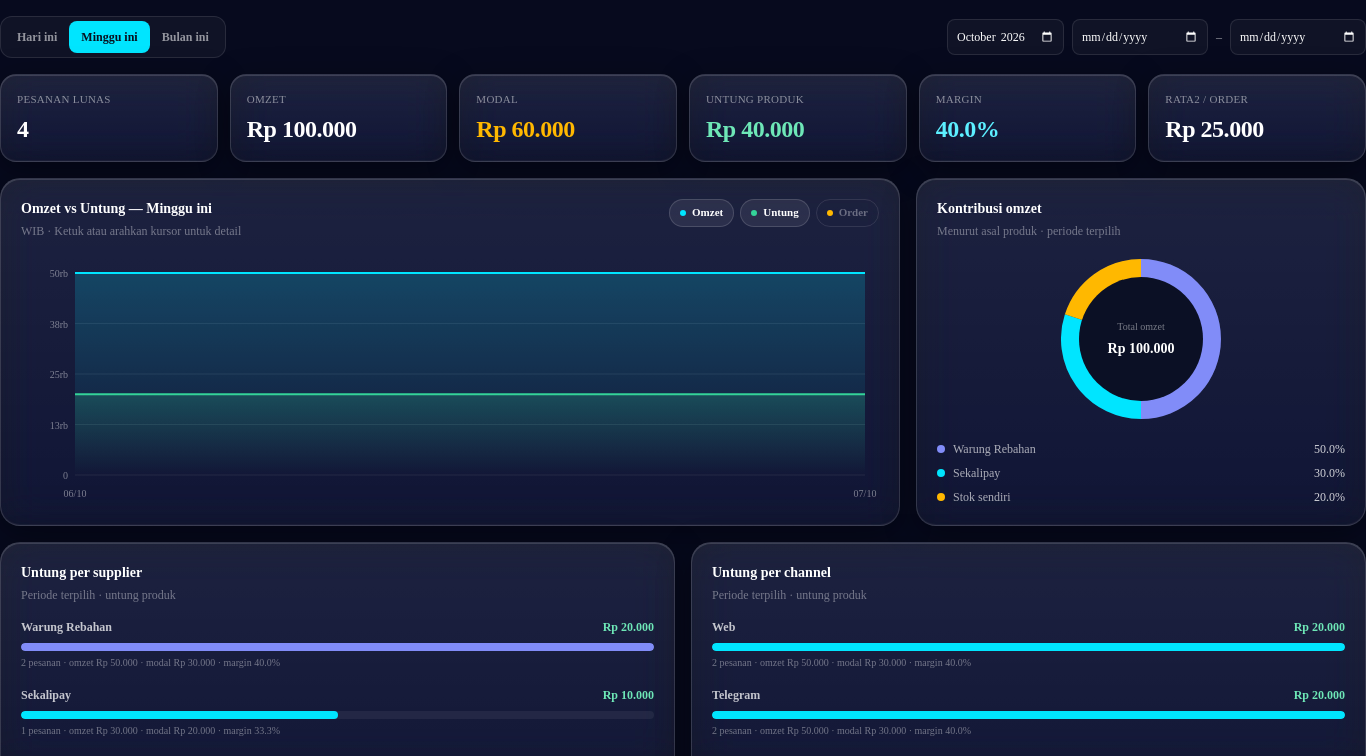
month and complete date edits apply automatically while invalid ranges preserve the report
Replace the text in the field named "Bulan historis" with "2024-02" at (1006, 37), box [947, 19, 1064, 55]
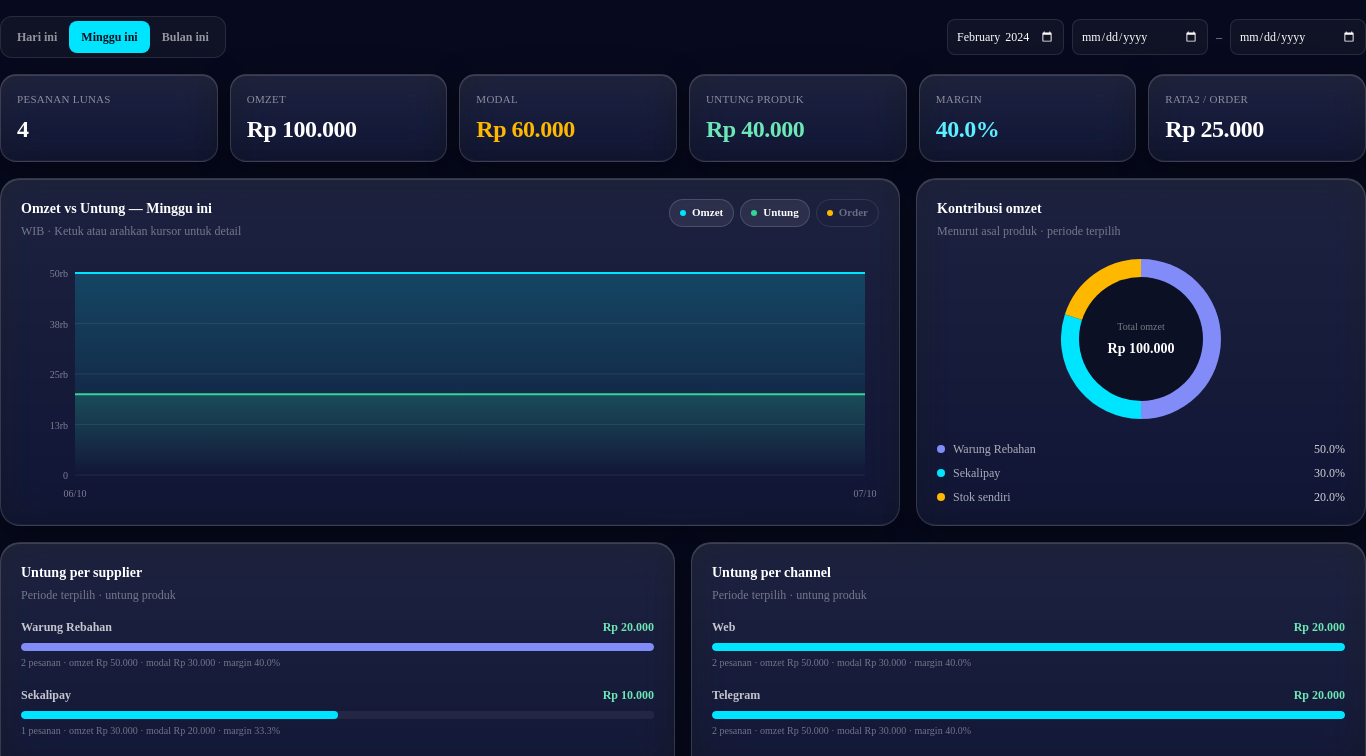
Type "2024-03-01" into the 1st date field named "Tanggal awal".
click(1140, 37); type("2024-03-01")  # box [1072, 19, 1208, 55]
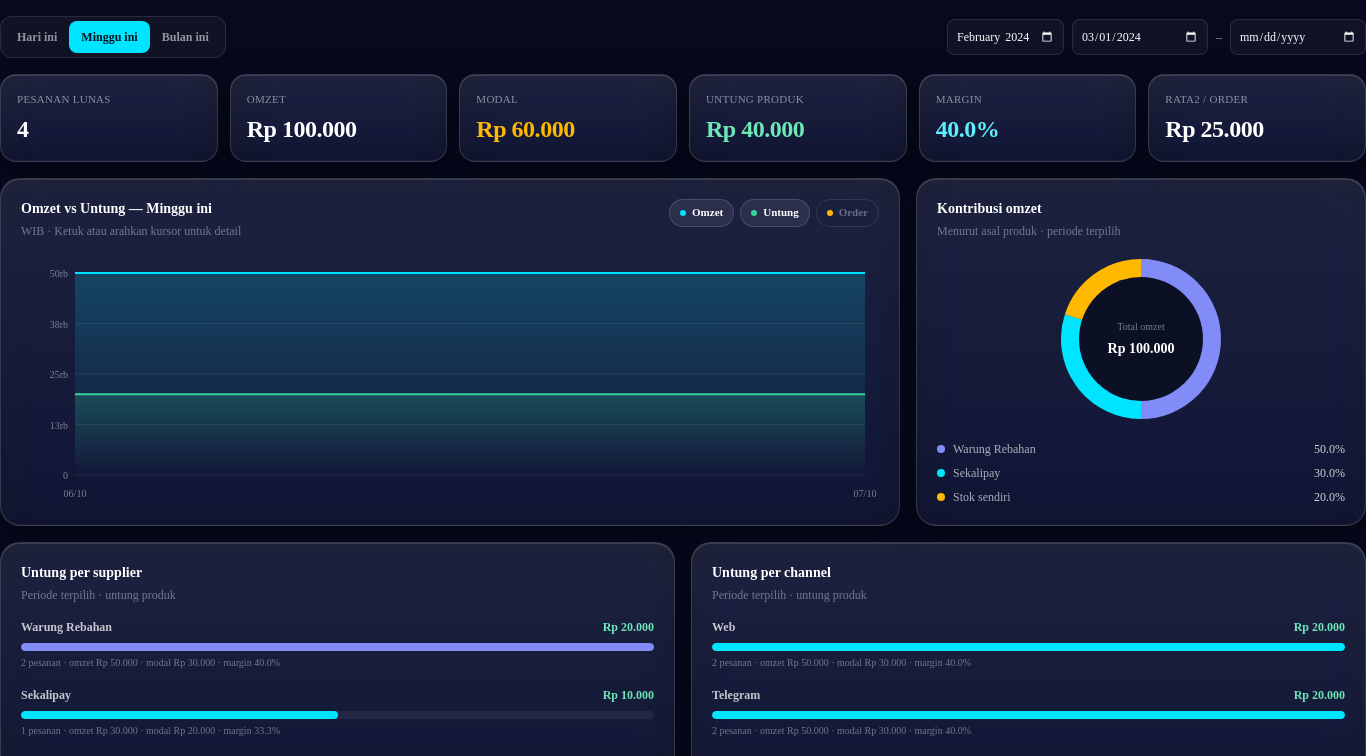
Type "2024-02-29" into the 2nd date field named "Tanggal akhir".
click(1298, 37); type("2024-02-29")  # box [1230, 19, 1365, 55]
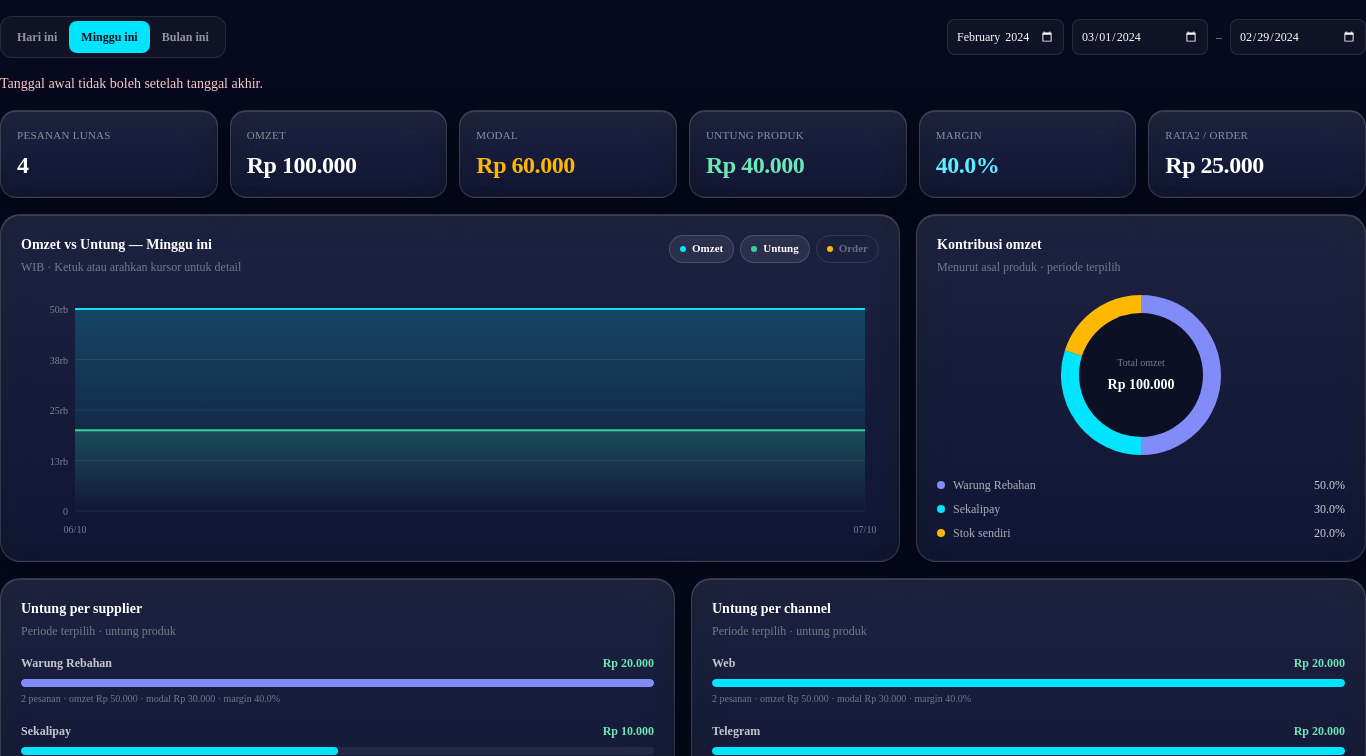
Expected: the message shows "Tanggal awal", [0, 76, 263, 91]
Type "2024-02-20" into the 1st date field named "Tanggal awal".
click(1140, 37); type("2024-02-20")  # box [1072, 19, 1208, 55]
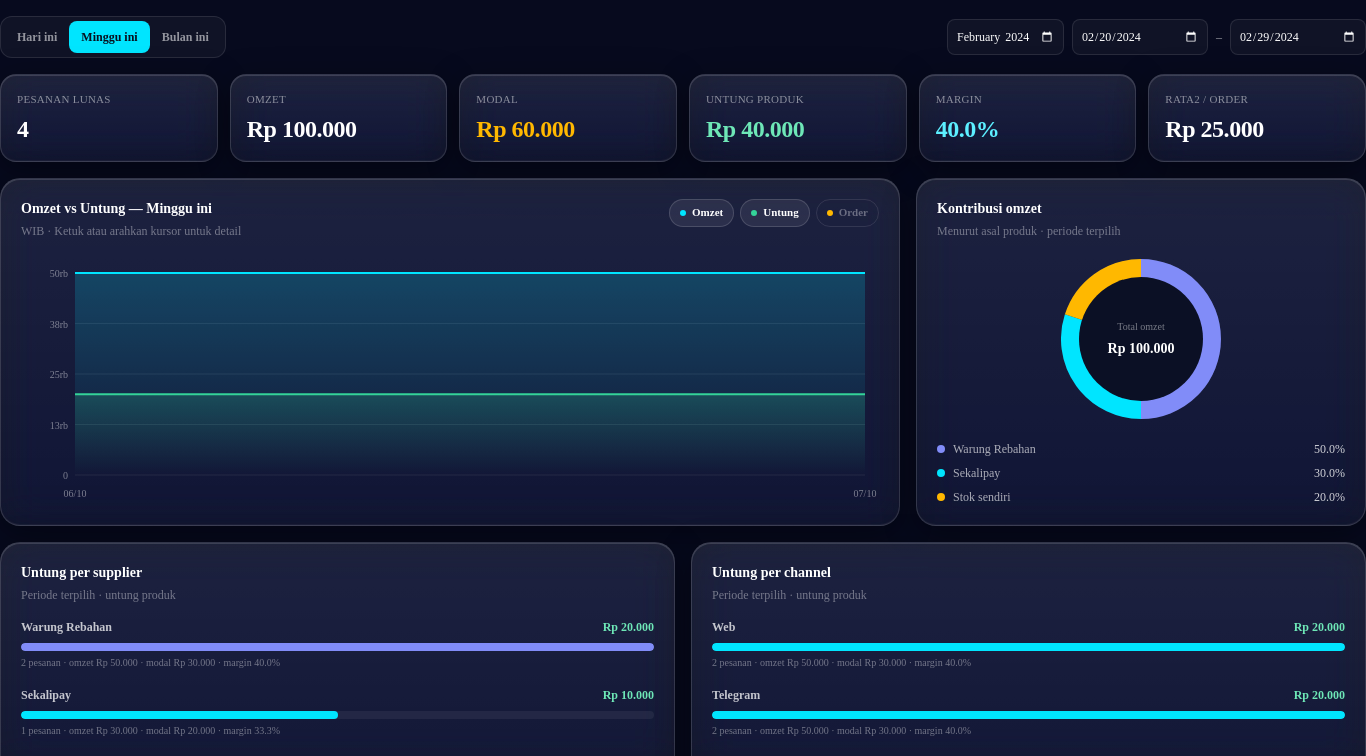
Expected: the text "Maksimal 366 hari" is not shown
Expected: the message "Tanggal awal tidak boleh setelah tanggal akhir." is gone
Replace the text in the field named "Bulan historis" with "2099-01" at (1006, 37), box [947, 19, 1064, 55]
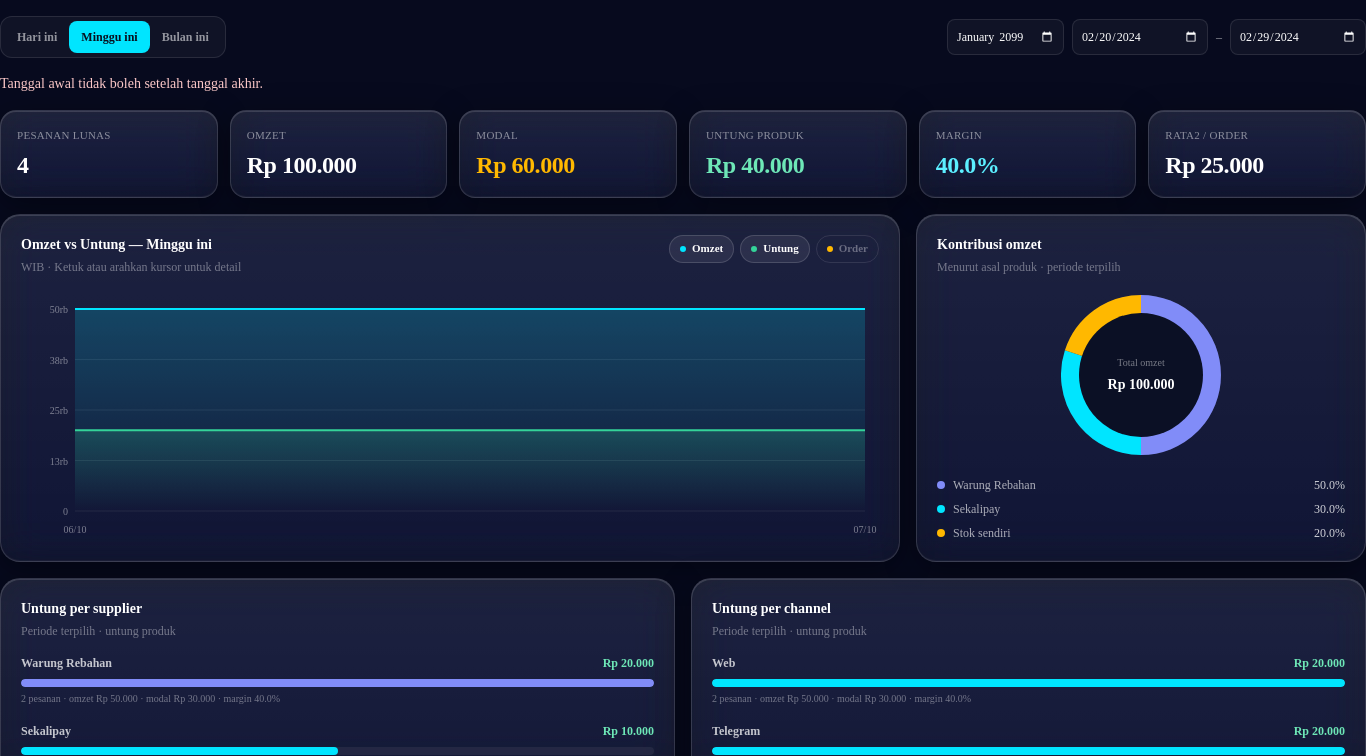
Expected: the message "Tanggal awal tidak boleh setelah tanggal akhir." is shown, [0, 76, 263, 91]
Type "2022-01-01" into the 1st date field named "Tanggal awal".
click(1140, 37); type("2022-01-01")  # box [1072, 19, 1208, 55]
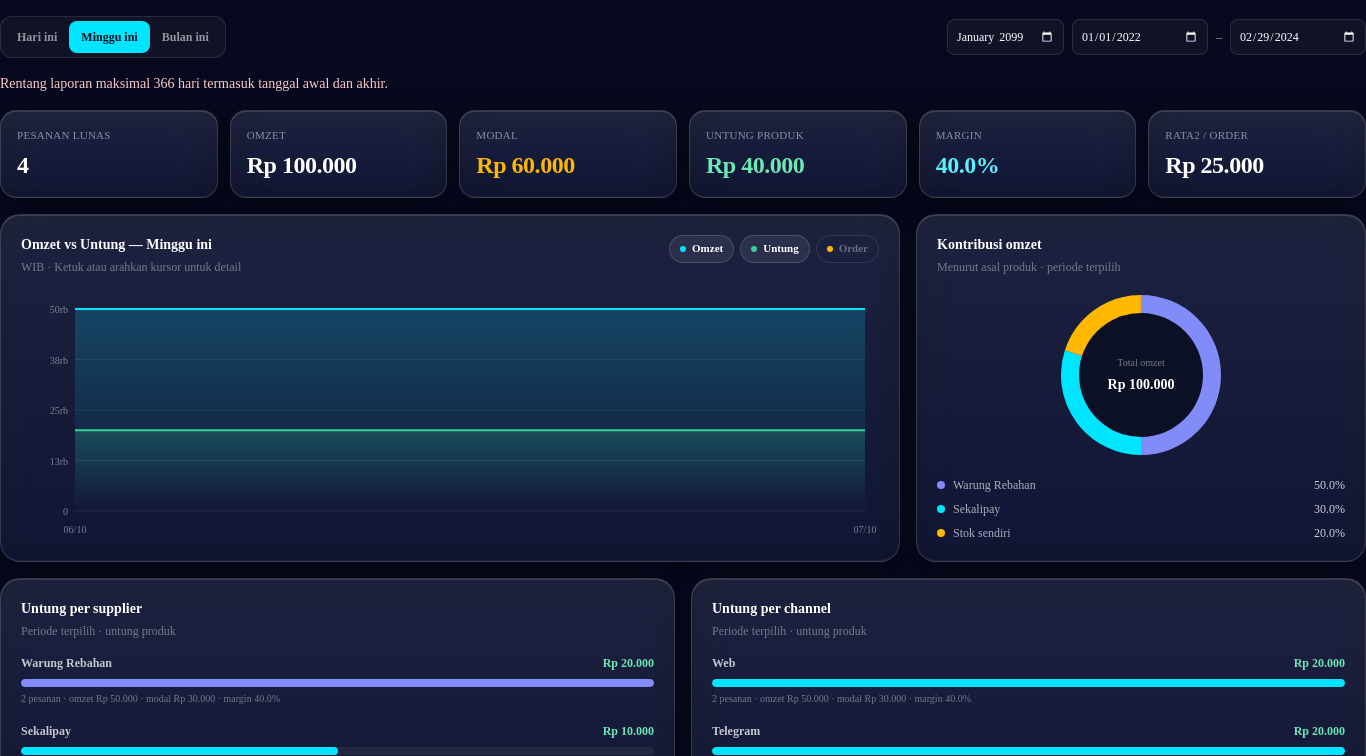
Expected: the message shows "366", [0, 76, 388, 91]
